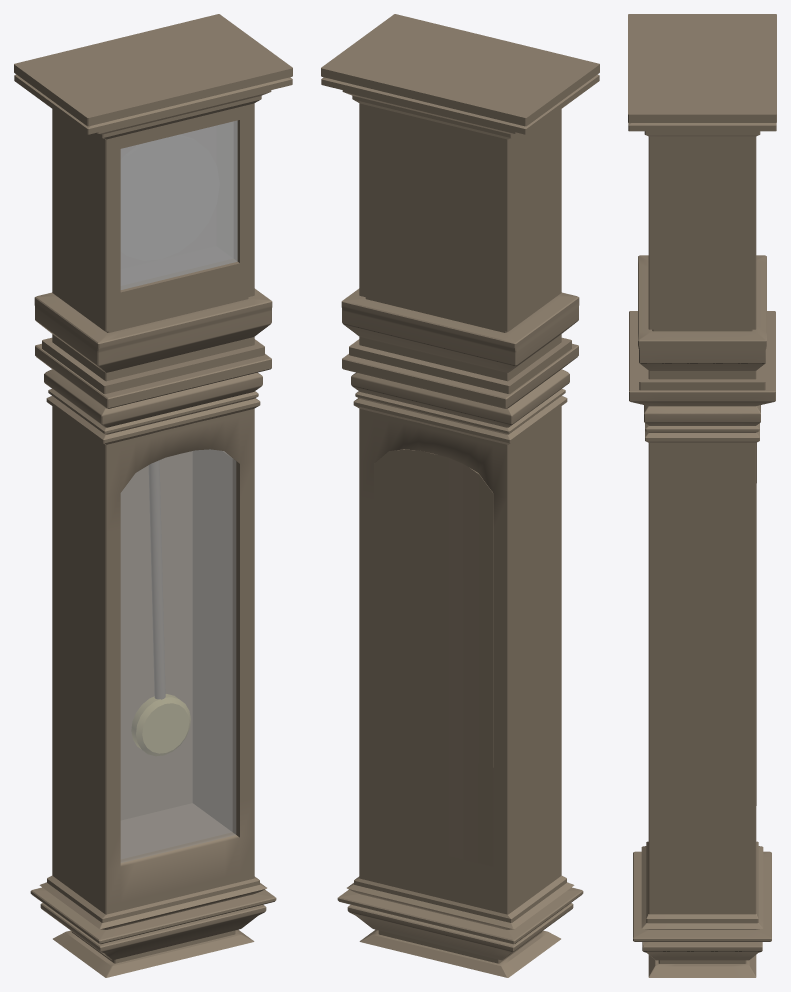
Rendered from Grandfather_Clock.fbx.
The picture shows the model from 3 angles, left to right: view 1: azimuth 30°, elevation 25°; view 2: azimuth 150°, elevation 25°; view 3: azimuth 270°, elevation 25°; orthographic projection.
Visible parts, largest first — view 1: Grandfather_Clock, Grandfather_Clock_Cabinet_Glass, Grandfather_Clock_Glass, Grandfather_Clock_Chime; view 2: Grandfather_Clock; view 3: Grandfather_Clock.
Boxes of the visible parts, bbox=[...] form: Grandfather_Clock: bbox=[14, 14, 292, 977]; Grandfather_Clock_Cabinet_Glass: bbox=[120, 449, 235, 862]; Grandfather_Clock_Glass: bbox=[120, 120, 237, 289]; Grandfather_Clock_Chime: bbox=[131, 460, 190, 755]; Grandfather_Clock: bbox=[321, 14, 599, 977]; Grandfather_Clock: bbox=[628, 14, 776, 977].
Size of the model in its own units: 55.16 by 224 by 34.48.
